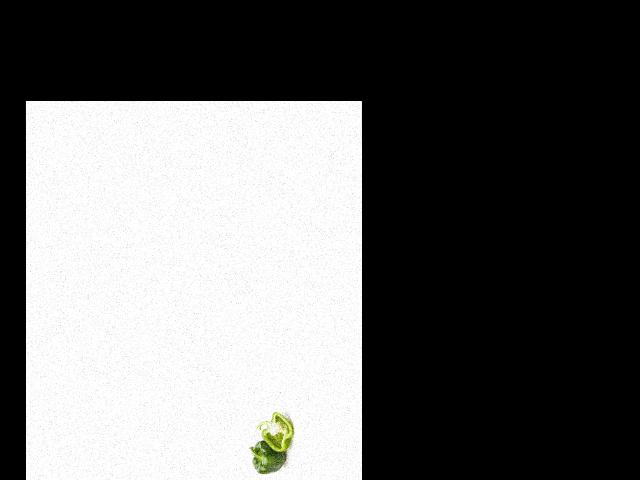bell_pepper: (254, 410, 292, 453)
